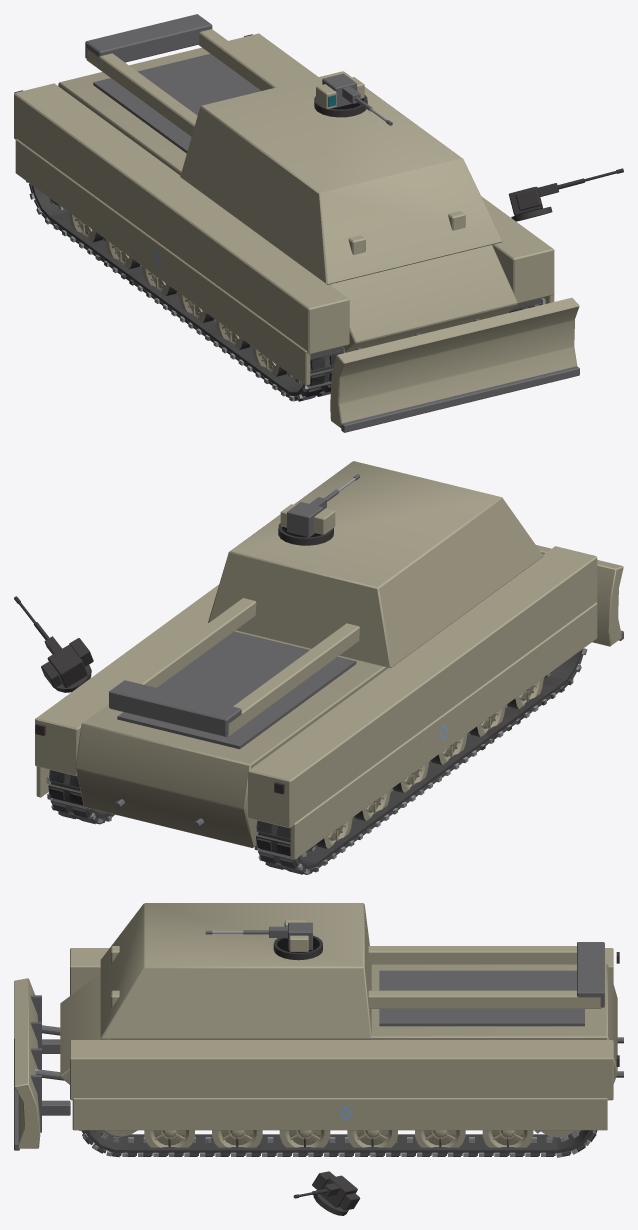
The model's file is recoveryVehicle__m88a2_hercules.glb.
3 renders of one model, top to bottom at view 1: azimuth 30°, elevation 25°; view 2: azimuth 150°, elevation 25°; view 3: azimuth 270°, elevation 25°, orthographic. The views are drawn at different scales.
Parts seen in each view (by area): view 1: Hull_Mesh, Track_L_Mesh, Wreck, Turret_Mesh; view 2: Hull_Mesh, Track_L_Mesh, Wreck, Track_R_Mesh, Turret_Mesh; view 3: Hull_Mesh, Track_R_Mesh, Wreck, Wheel_R0_Mesh, Wheel_R2_Mesh, Wheel_R4_Mesh, Wheel_R1_Mesh, Wheel_R3_Mesh, Wheel_R5_Mesh, Turret_Mesh, Gun_Mesh.
Part boxes in pixels (bbox=[...]): Hull_Mesh: bbox=[14, 14, 579, 432]; Track_L_Mesh: bbox=[26, 181, 344, 401]; Wreck: bbox=[29, 95, 623, 400]; Turret_Mesh: bbox=[316, 73, 364, 109]; Hull_Mesh: bbox=[35, 461, 623, 859]; Track_L_Mesh: bbox=[254, 648, 587, 874]; Wreck: bbox=[14, 523, 585, 874]; Track_R_Mesh: bbox=[46, 770, 114, 824]; Turret_Mesh: bbox=[280, 502, 335, 537]; Hull_Mesh: bbox=[14, 903, 623, 1150]; Track_R_Mesh: bbox=[79, 1130, 596, 1157]; Wreck: bbox=[81, 935, 597, 1215]; Wheel_R0_Mesh: bbox=[482, 1130, 533, 1155]; Wheel_R2_Mesh: bbox=[347, 1130, 397, 1154]; Wheel_R4_Mesh: bbox=[212, 1130, 262, 1154]; Wheel_R1_Mesh: bbox=[415, 1130, 465, 1154]; Wheel_R3_Mesh: bbox=[279, 1130, 330, 1154]; Wheel_R5_Mesh: bbox=[144, 1130, 194, 1155]; Turret_Mesh: bbox=[284, 920, 312, 951]; Gun_Mesh: bbox=[205, 926, 287, 937].
Size of what is drawn, in the model's own units: 6.36 by 2.9 by 8.3.
